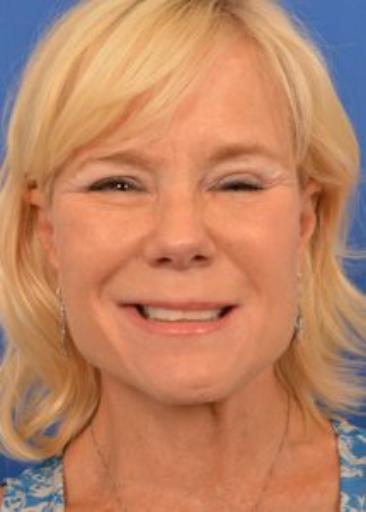left_eye: (210, 174, 270, 197)
left_lip_corner: (218, 299, 241, 322)
right_eye: (90, 176, 151, 196)
right_lip_corner: (113, 298, 135, 320)
